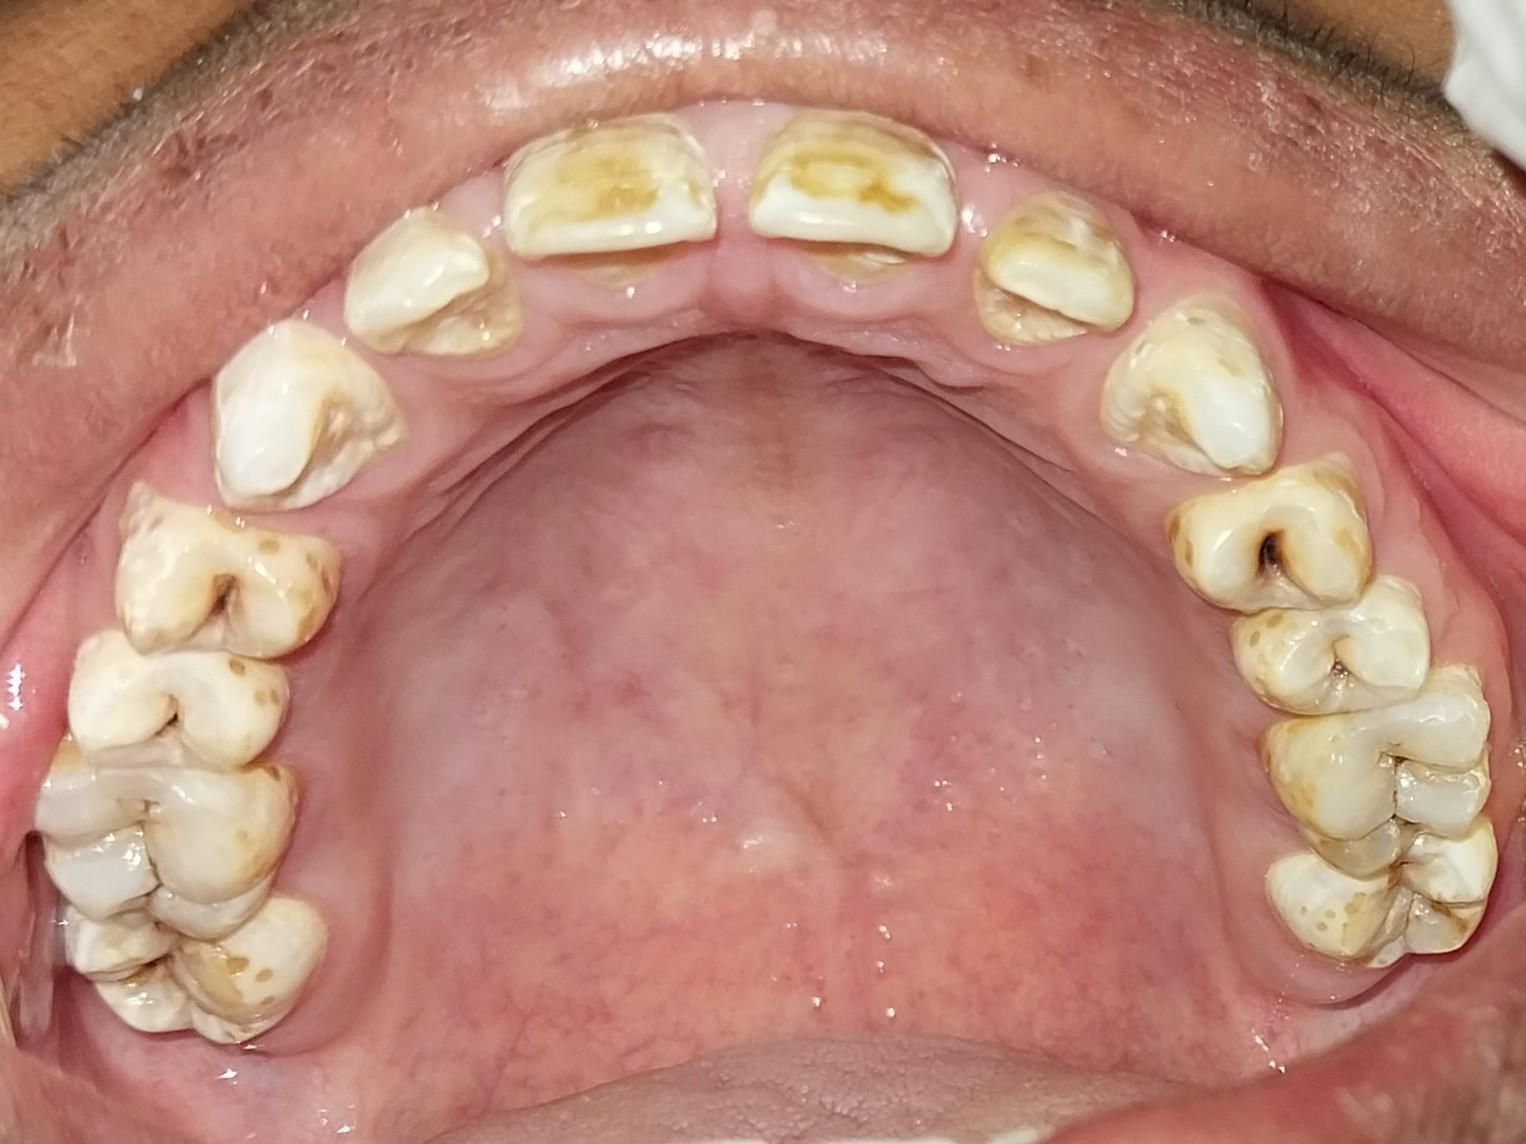D: (33, 757, 295, 939), (1264, 673, 1494, 877), (116, 495, 340, 670), (64, 904, 324, 1040), (1165, 460, 1372, 616), (69, 635, 292, 772), (1233, 582, 1430, 716)
